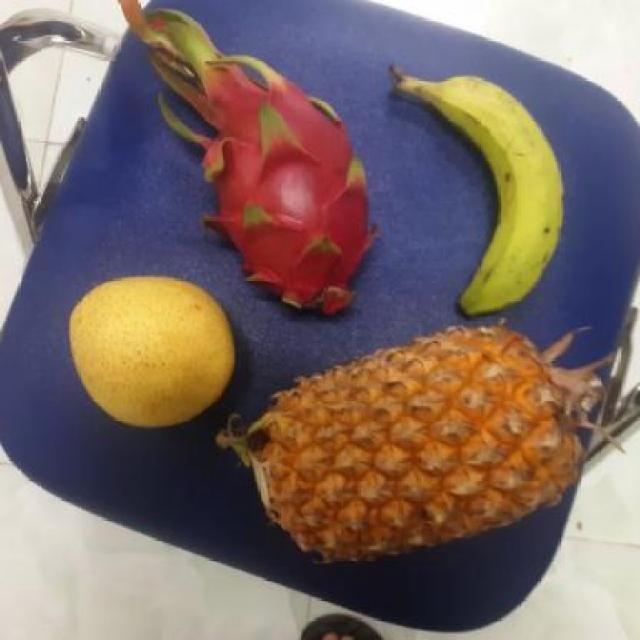banana: (403, 75, 566, 317)
dragon fruit: (182, 70, 382, 318)
pear: (67, 279, 245, 426)
pineapple: (240, 326, 592, 557)
